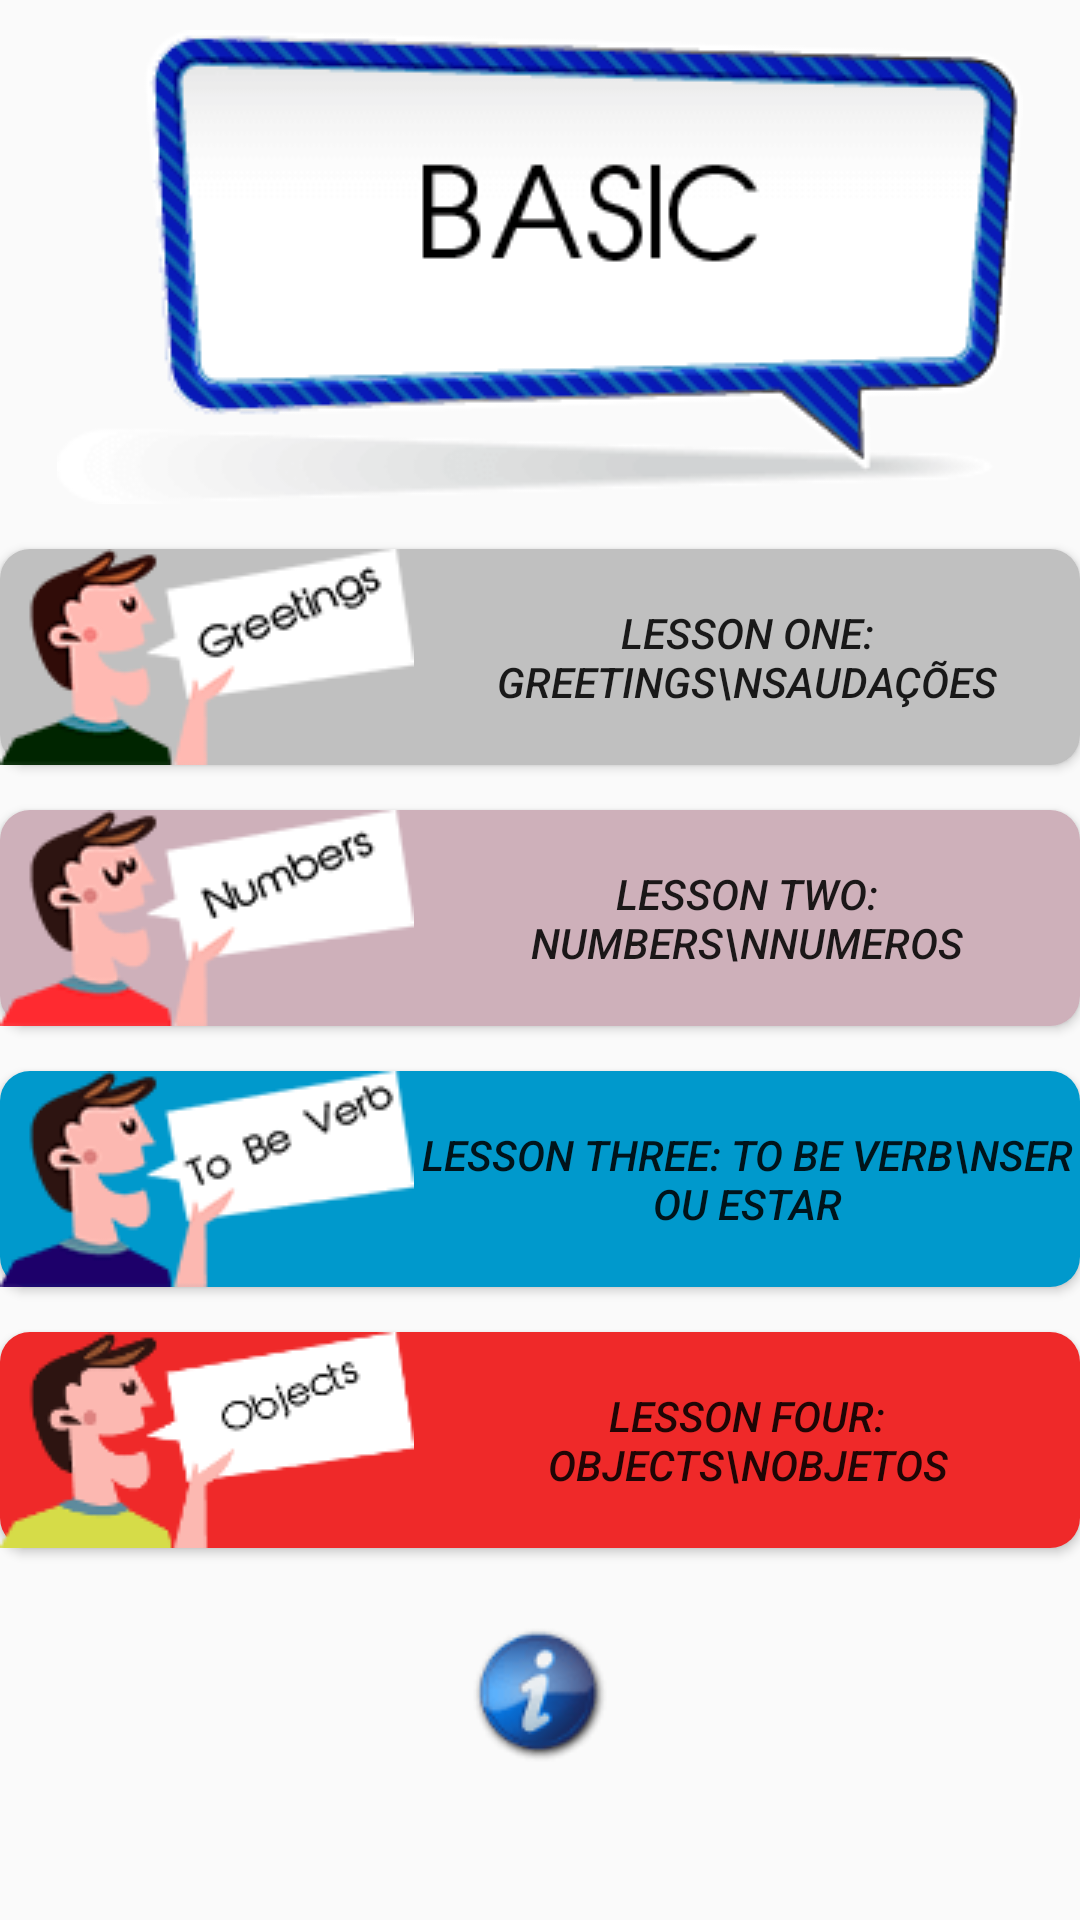

Where to tap for icons on this 1080w x 1920h app screen, as (x,y):
info: (540,1694)
